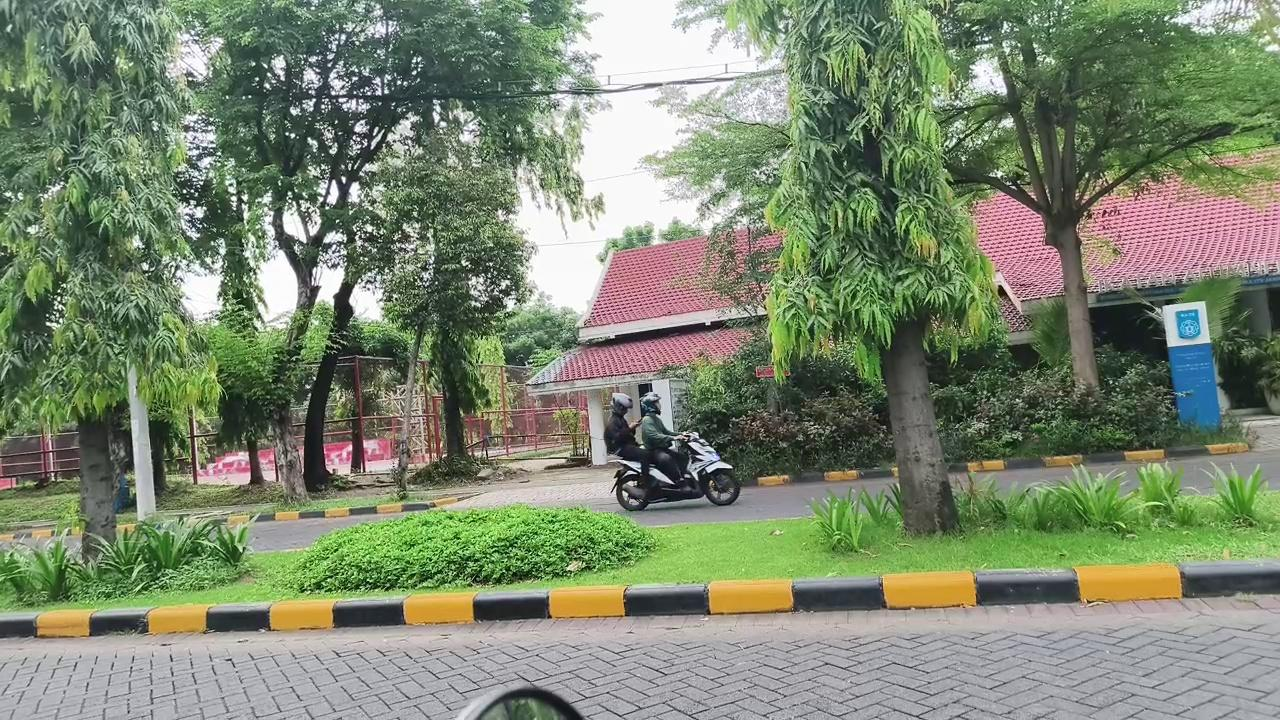Helmet: (604, 393, 653, 487), (640, 392, 687, 481)
Motor: (614, 432, 740, 510), (457, 686, 583, 719)
